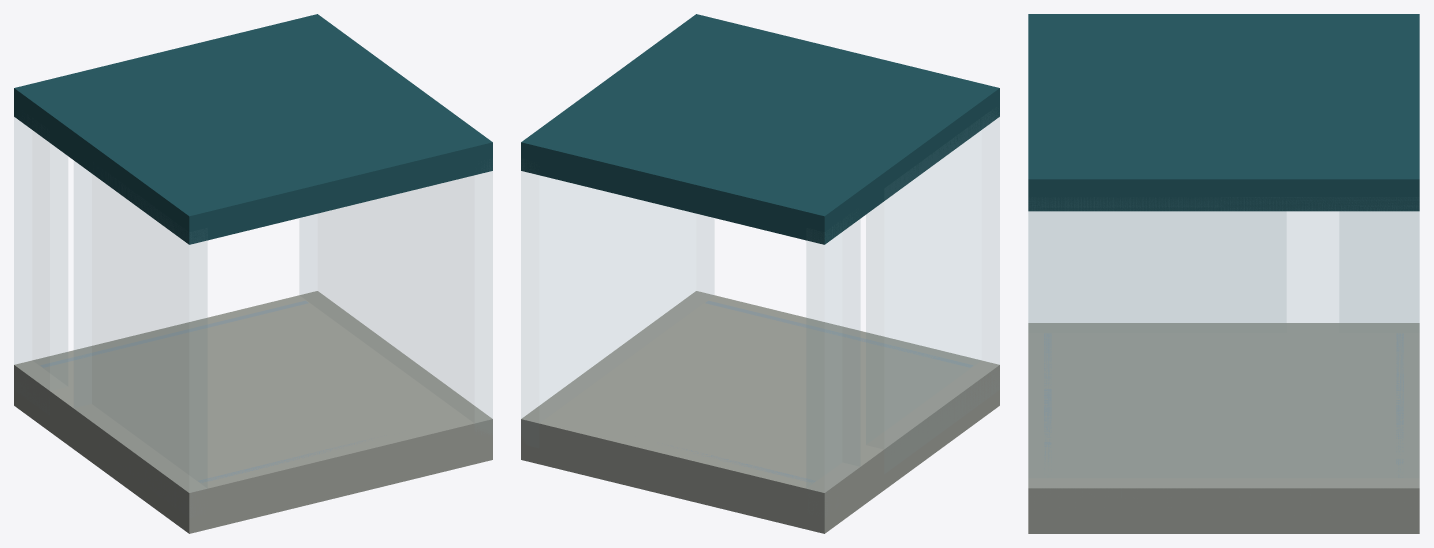
File: SM_StationUnderpass.fbx
3 views of the same model, side by side, from view 1: azimuth 30°, elevation 25°; view 2: azimuth 150°, elevation 25°; view 3: azimuth 270°, elevation 25° (orthographic). The views are drawn at different scales.
Parts seen in each view (by area): view 1: SM_StationUnderpass_UEExport; view 2: SM_StationUnderpass_UEExport; view 3: SM_StationUnderpass_UEExport.
Boxes of the visible parts, x1,y1,x2,y2 form: SM_StationUnderpass_UEExport: [14, 14, 492, 533]; SM_StationUnderpass_UEExport: [521, 14, 999, 533]; SM_StationUnderpass_UEExport: [1028, 14, 1419, 533].
Size of the model in its own units: 200 by 200 by 200.
